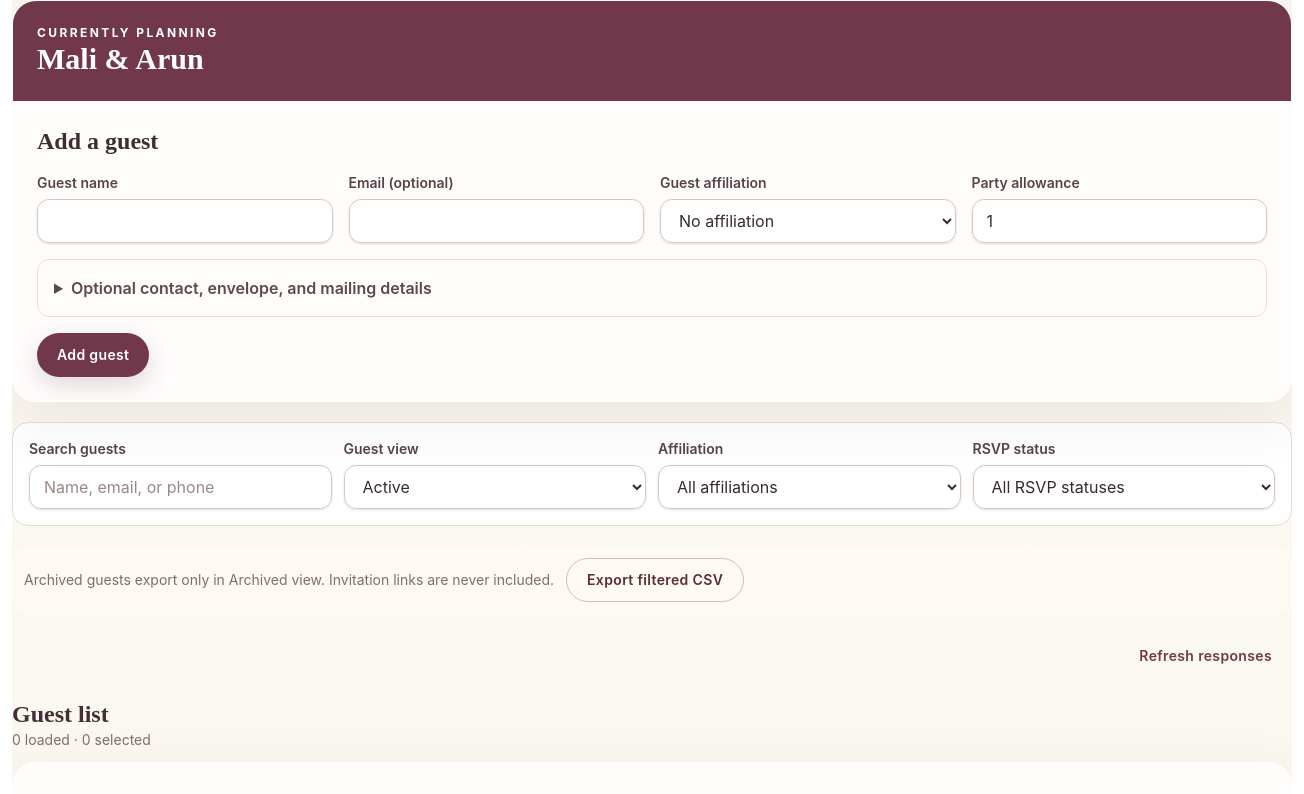
Test case: GuestWorkspace › debounces search for 300 ms and ignores a stale filter response
Type "Som" into the field labelled "Search guests" at [180, 487], box [29, 465, 332, 509]
Wait 300 ms
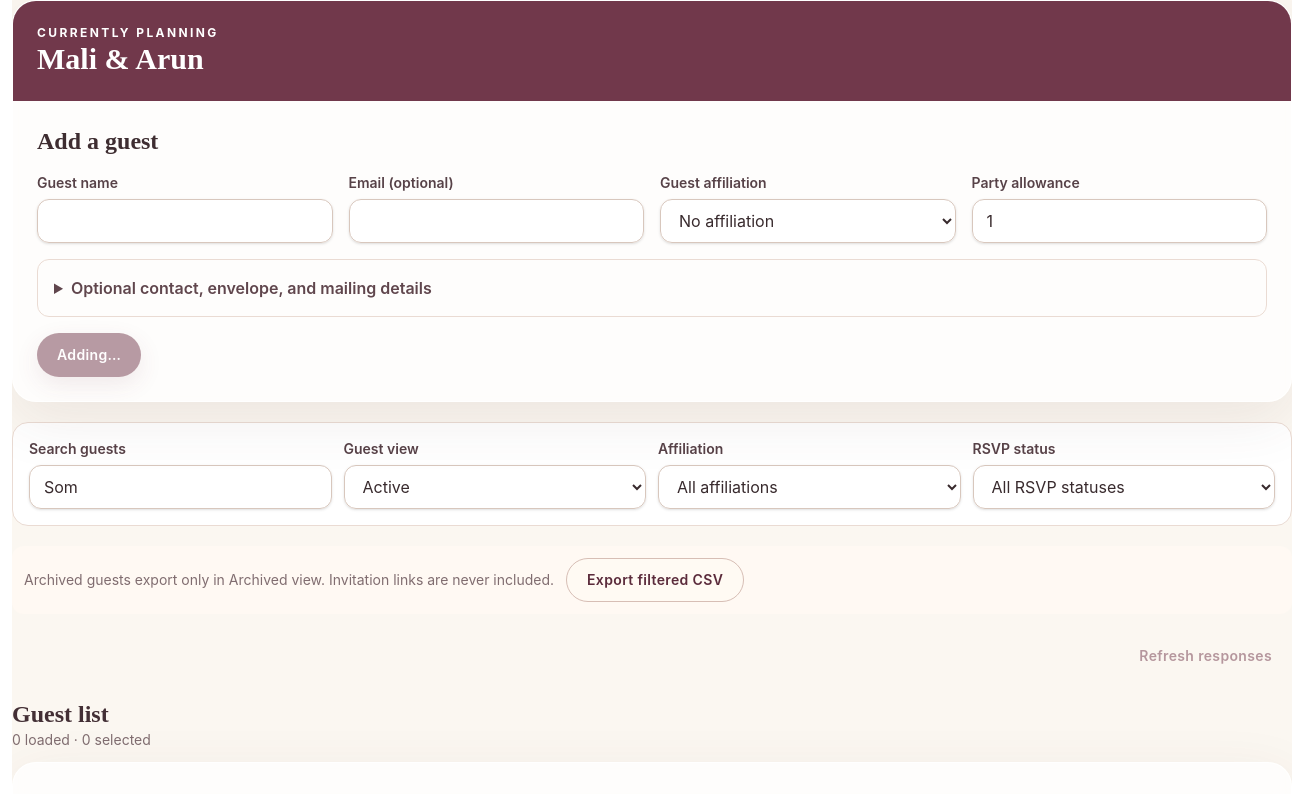
Select "Pending" in the dropdown labelled "RSVP status" at [1124, 487], box [972, 465, 1275, 509]
(page scrolled)
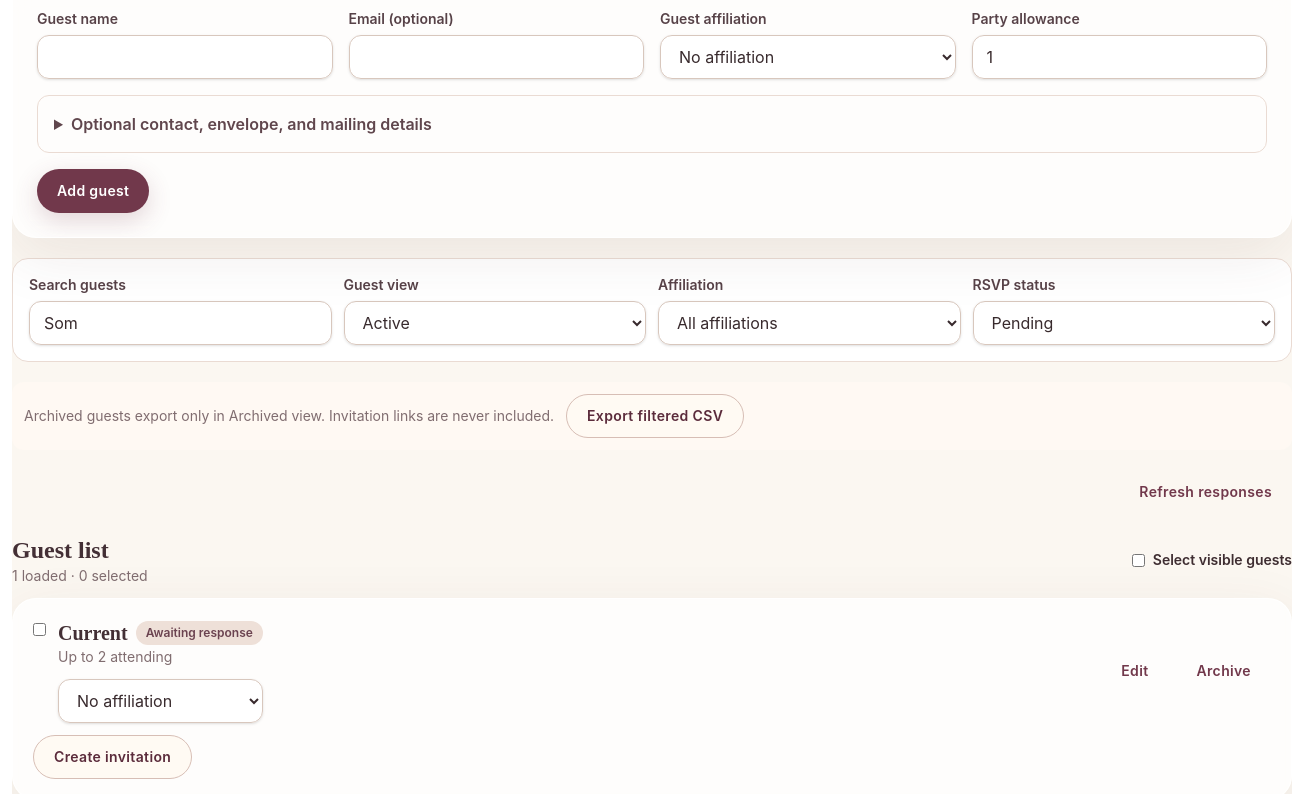
Expected: the text "Current" is shown, [58, 619, 128, 647]
